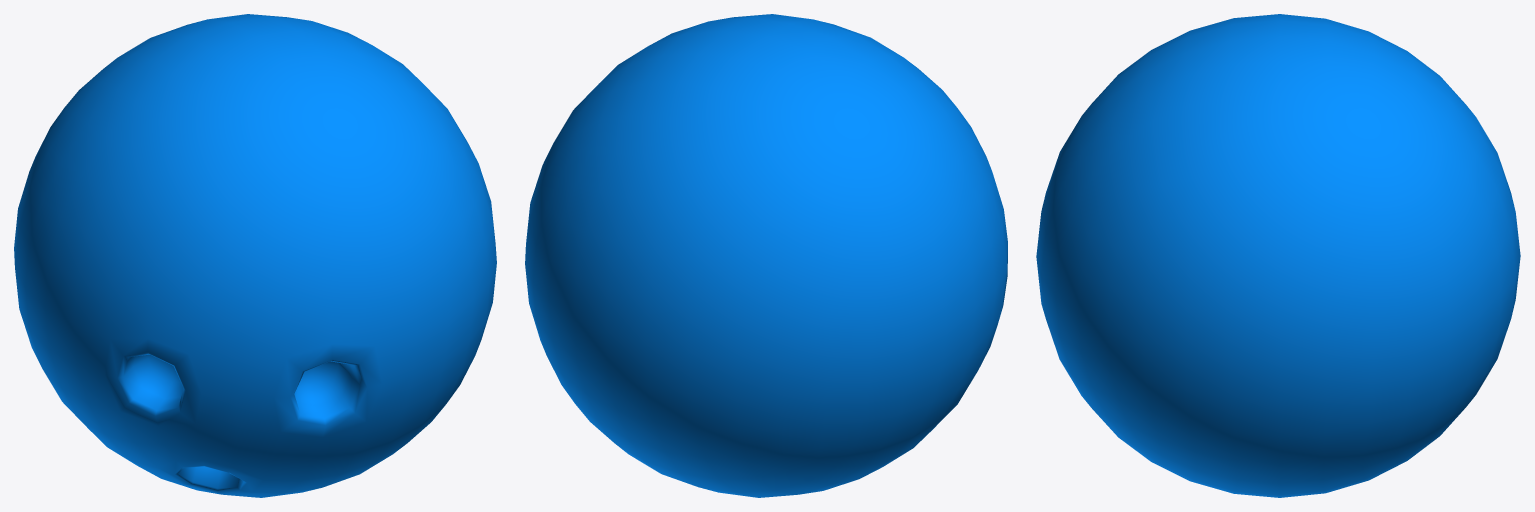
File: blueBowlingBall.glb
3 renders of one model, left to right at view 1: azimuth 30°, elevation 25°; view 2: azimuth 150°, elevation 25°; view 3: azimuth 270°, elevation 25°, orthographic.
Visible parts, largest first — view 1: Bowling_ball014_Material #4302_0; view 2: Bowling_ball014_Material #4302_0; view 3: Bowling_ball014_Material #4302_0.
Boxes of the visible parts, left/top/right/bottom form: Bowling_ball014_Material #4302_0: left=14, top=14, right=496, bottom=497; Bowling_ball014_Material #4302_0: left=525, top=14, right=1007, bottom=497; Bowling_ball014_Material #4302_0: left=1036, top=14, right=1520, bottom=497.
Bounding box in the file's own units: 2.08 × 2.08 × 2.08.
